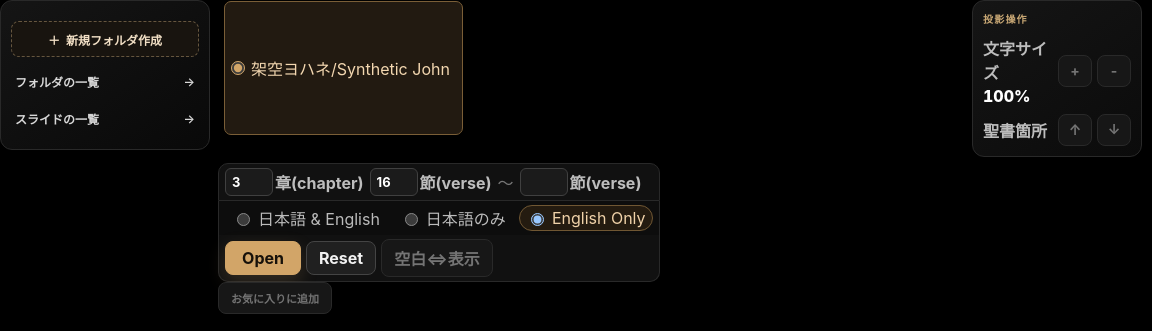
Scenario: ScriptureSearch › loads a linked selection initially without a competing blank catalog request
This screenshot has width=1152, height=331.
Expected: the field named "開始節" is enabled, [370,168,418,196]
Expected: the field labelled "章" holds "3", [225,168,273,196]
Click the button "Reset": point(341, 258) [306,240,376,274]
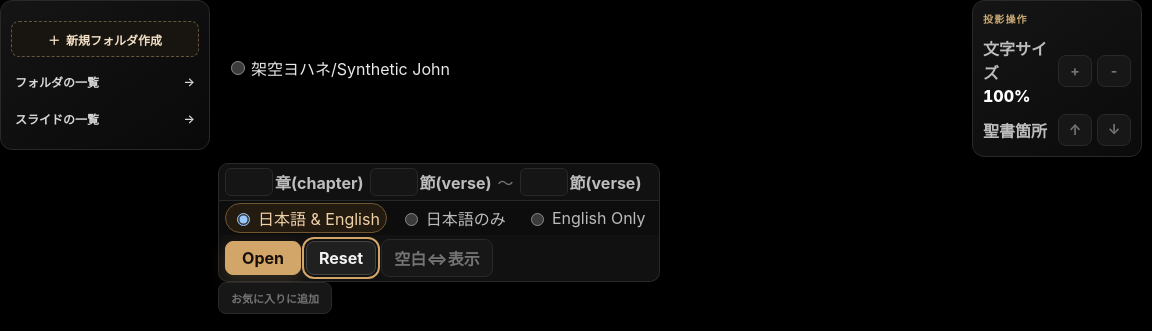
Expected: the field labelled "章" is empty, [225,168,273,196]
